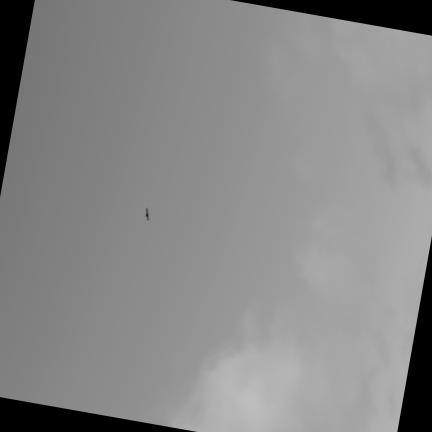Shahed: (145, 207, 149, 220)
